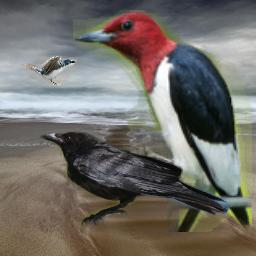Crow: (39, 130, 230, 228)
Swallow: (22, 55, 78, 85)
Woodpecker: (73, 10, 252, 232)
